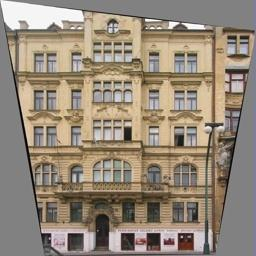building: (16, 1, 215, 256)
